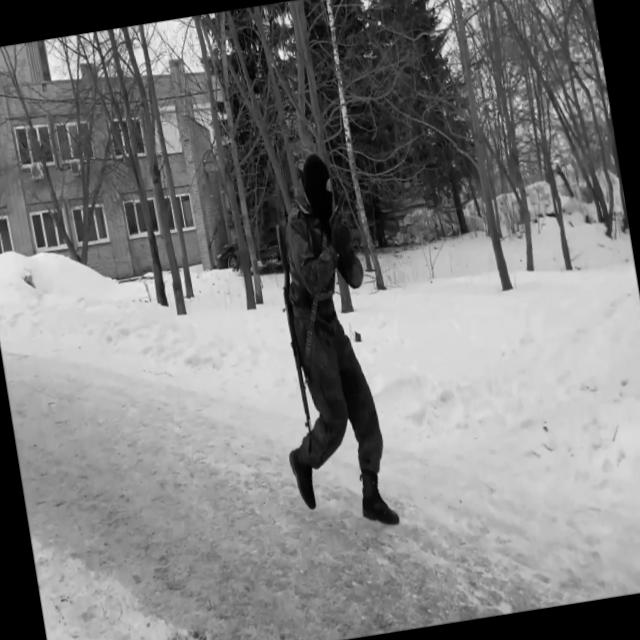gun: (270, 220, 320, 443), (322, 189, 352, 234)
person with a gun: (242, 145, 404, 540)
